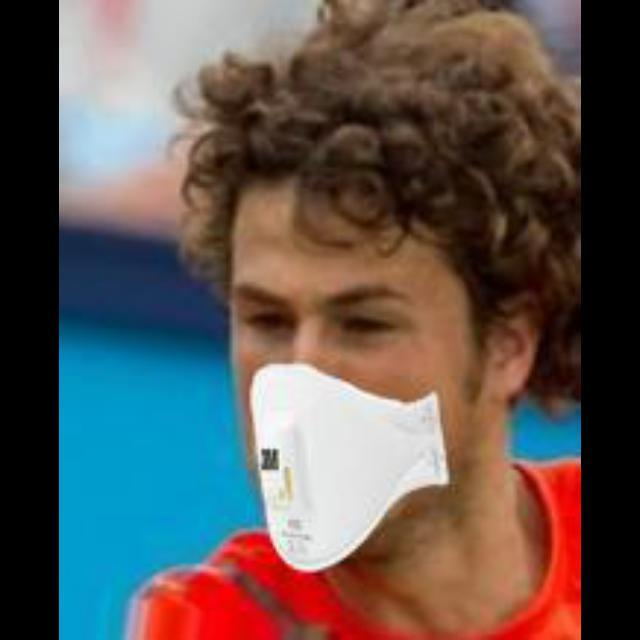suspicion: (178, 106, 544, 554)
